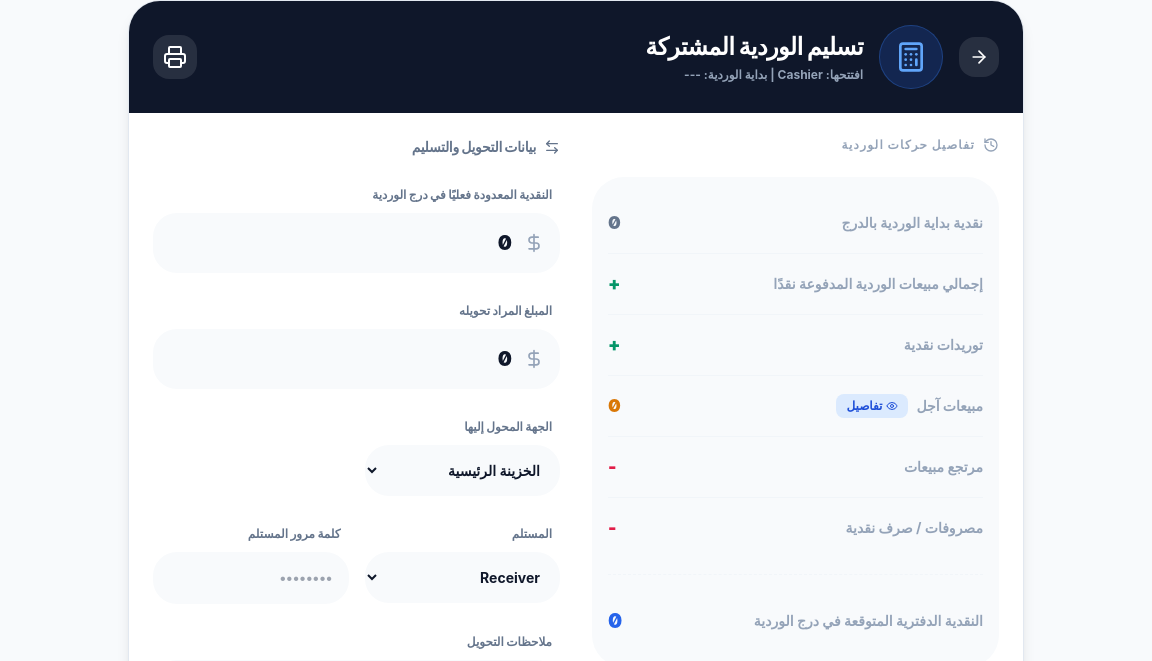
Test: today shift UI wiring › renders a paid-off credit receipt as zero instead of falling back to its invoice total
Click the button titled "أين ذهب الآجل؟" at (872, 406), box [836,394,908,418]
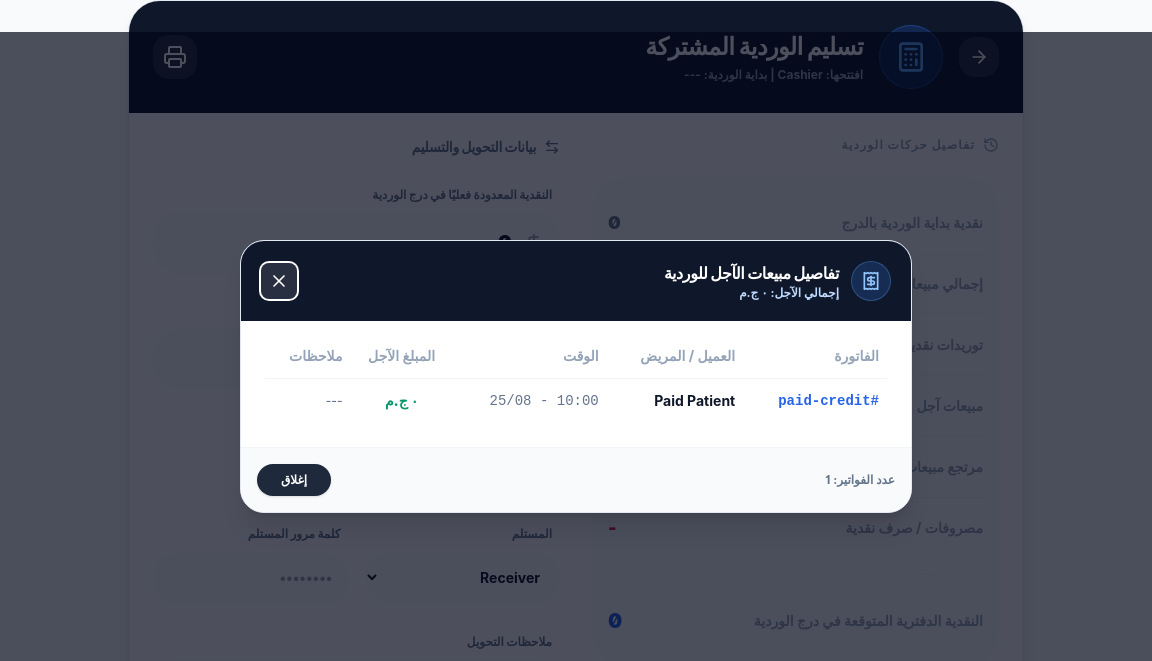
Now the text "#paid-credit" reads "#paid-credit Paid Patient 10:00 - 25/08 ٠ ج.م ---", box [265,378,887,422]
